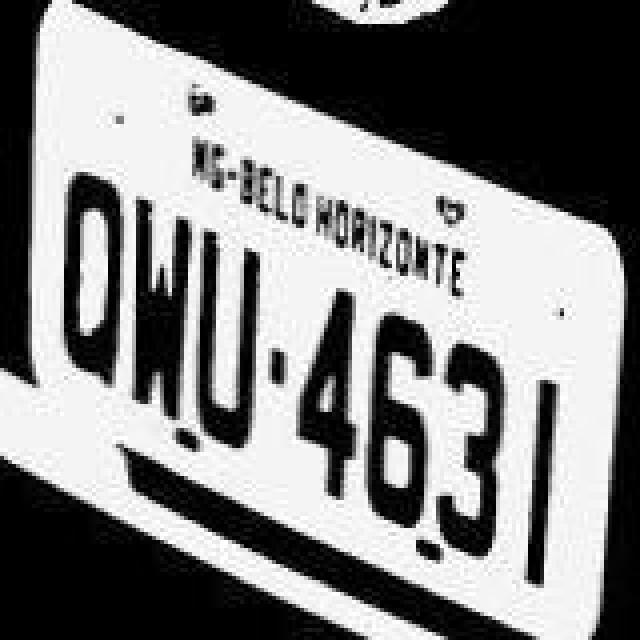1: (510, 372, 566, 588)
3: (434, 330, 514, 566)
4: (294, 284, 370, 508)
6: (356, 306, 436, 534)
Q: (50, 170, 134, 406)
U: (192, 222, 264, 458)
W: (120, 188, 200, 428)
